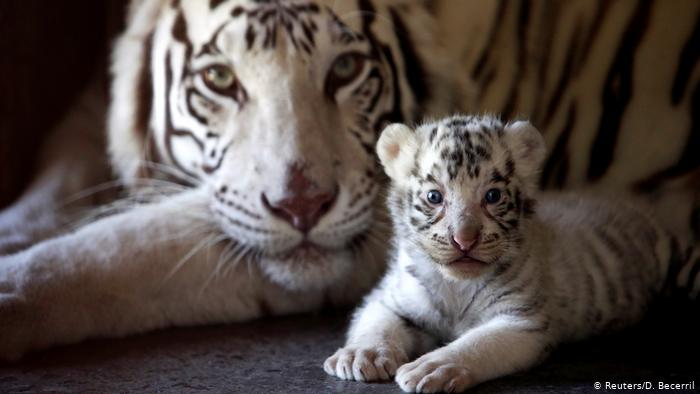Tigrew: (74, 7, 390, 290), (378, 105, 660, 375)
